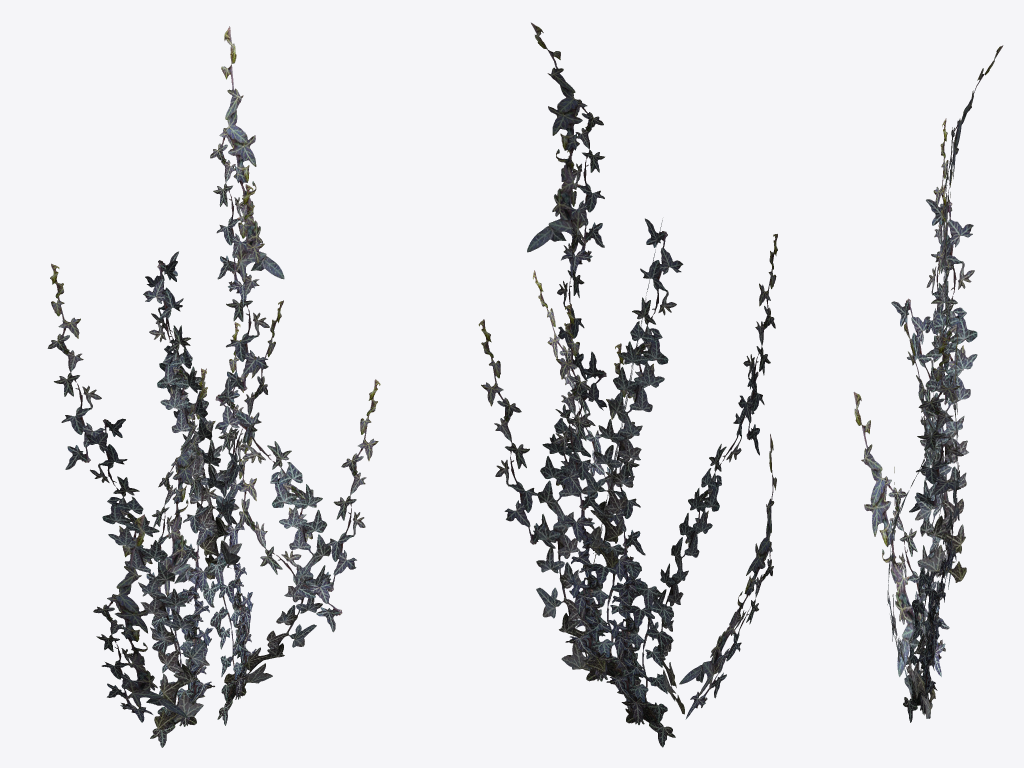
File: ivy08_lod0.fbx
3 views of the same model, side by side, from view 1: azimuth 30°, elevation 25°; view 2: azimuth 150°, elevation 25°; view 3: azimuth 270°, elevation 25° (orthographic). The views are drawn at different scales.
Visible parts, largest first — view 1: Mesh Object; view 2: Mesh Object; view 3: Mesh Object.
Boxes of the visible parts, <box> form: Mesh Object: <box>47,26,380,747</box>; Mesh Object: <box>478,22,777,747</box>; Mesh Object: <box>853,45,1003,722</box>.
Size of the model in its own units: 1.13 by 2.04 by 0.4558.
